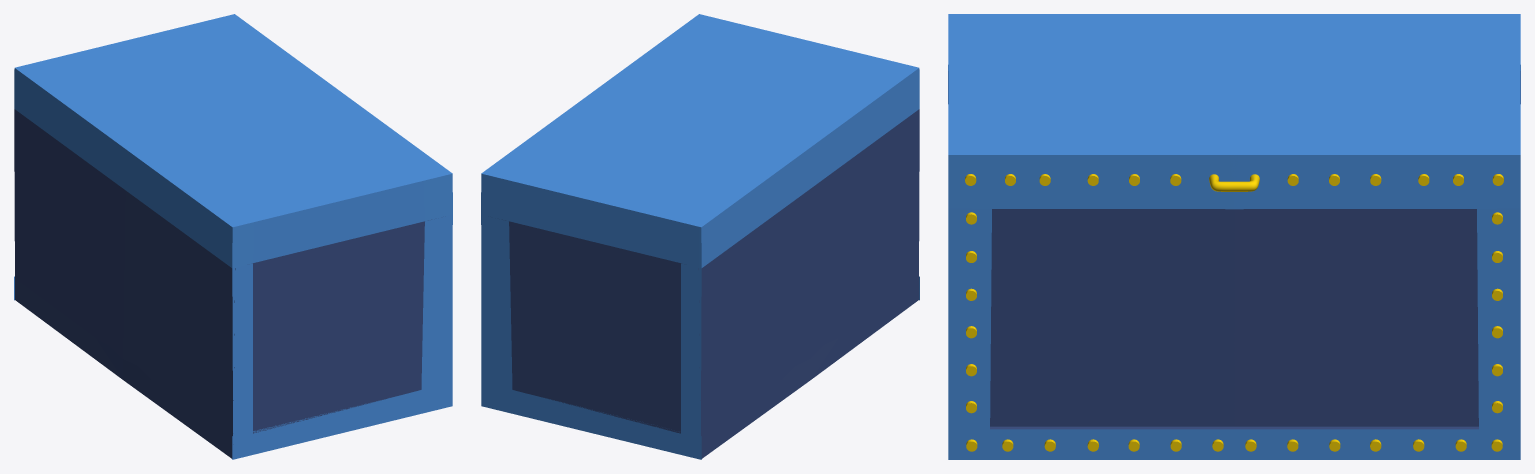
File: chest.fbx
3 renders of one model, left to right at view 1: azimuth 30°, elevation 25°; view 2: azimuth 150°, elevation 25°; view 3: azimuth 270°, elevation 25°, orthographic. The views are drawn at different scales.
Parts seen in each view (by area): view 1: Cube; view 2: Cube; view 3: Cube, Circle.016.
Part boxes in pixels (<box>): Cube: <box>14,14,452,459</box>; Cube: <box>481,14,919,459</box>; Cube: <box>948,14,1520,459</box>; Circle.016: <box>1209,174,1259,191</box>.
Bounding box in the file's own units: 214 × 202 × 343.
